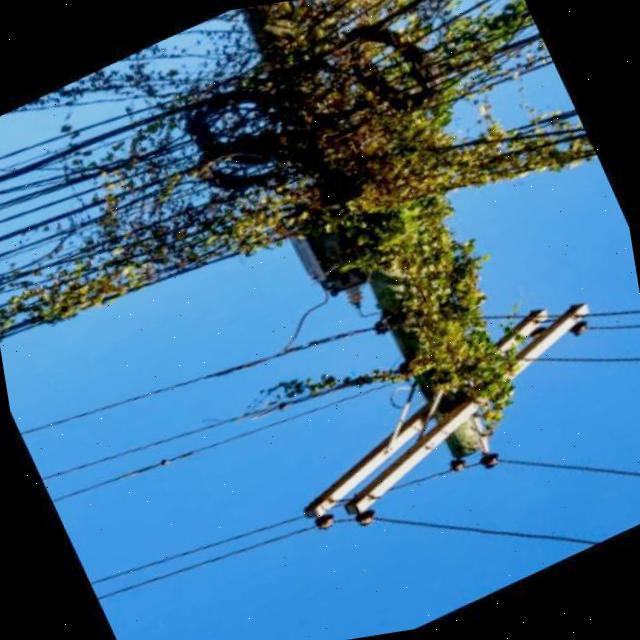critical vegetation: (198, 0, 593, 507)
